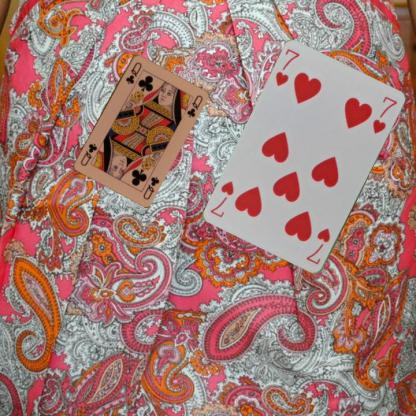7h: (272, 46, 302, 88), (303, 226, 332, 266)
Qc: (123, 59, 143, 85), (140, 174, 160, 200)
